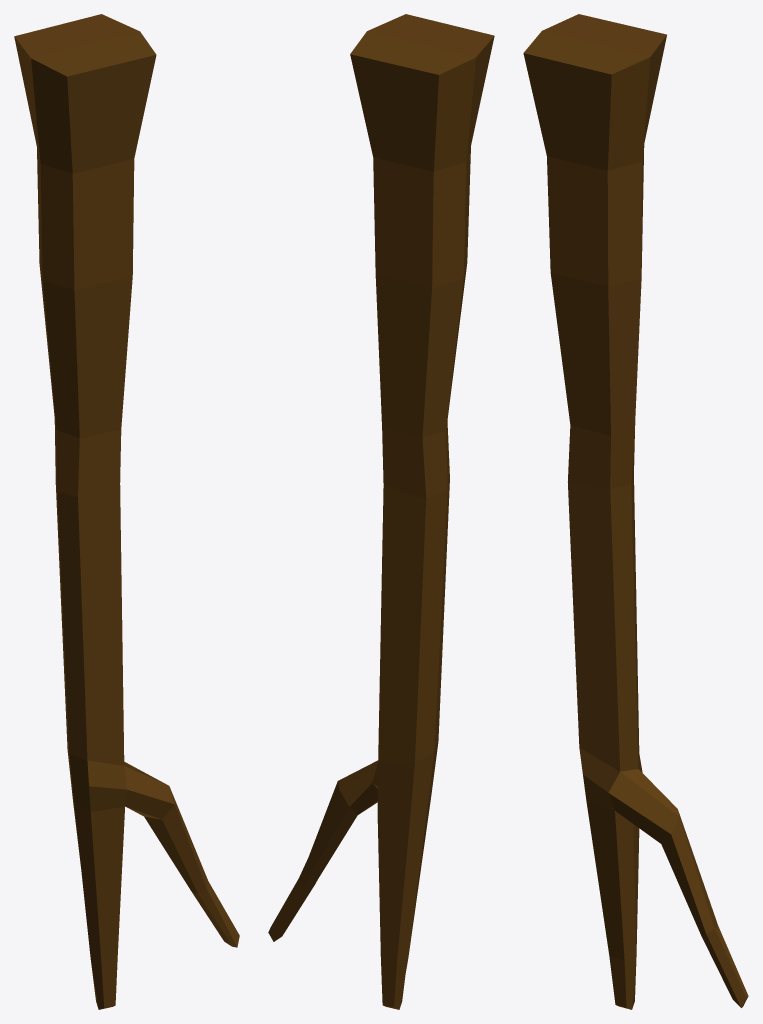
The picture shows the model from 3 angles, left to right: view 1: azimuth 30°, elevation 25°; view 2: azimuth 150°, elevation 25°; view 3: azimuth 330°, elevation 25°; orthographic projection.
Parts seen in each view (by area): view 1: Cube.015; view 2: Cube.015; view 3: Cube.015.
Part boxes in pixels (x1,y1,x2,y2): Cube.015: (14, 14, 239, 1009); Cube.015: (268, 14, 494, 1009); Cube.015: (523, 14, 748, 1009).
Size of the model in its own units: 45.18 by 202 by 20.9.
